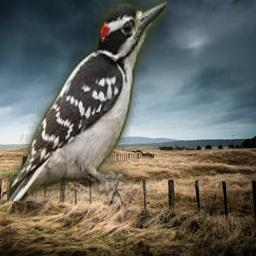Woodpecker: (7, 0, 167, 201)
